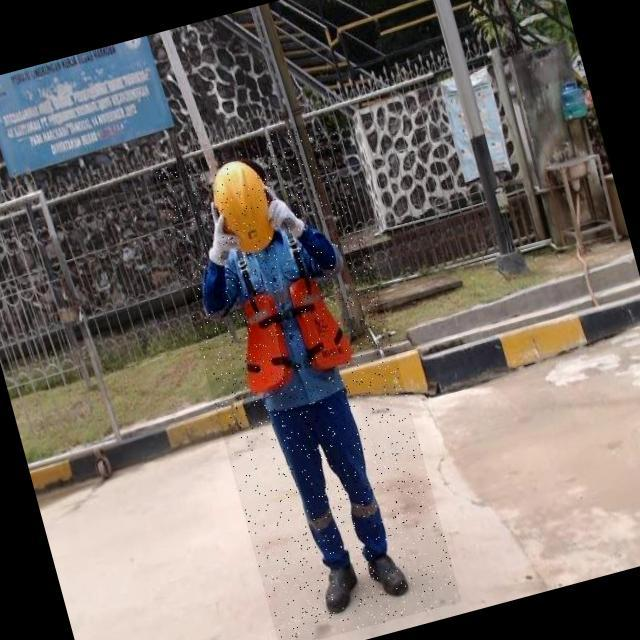Helmet: (204, 150, 284, 261)
Human: (150, 115, 462, 640)
Safety Boot: (311, 546, 368, 620), (357, 540, 412, 606)
Safety Vest: (226, 272, 359, 395)
